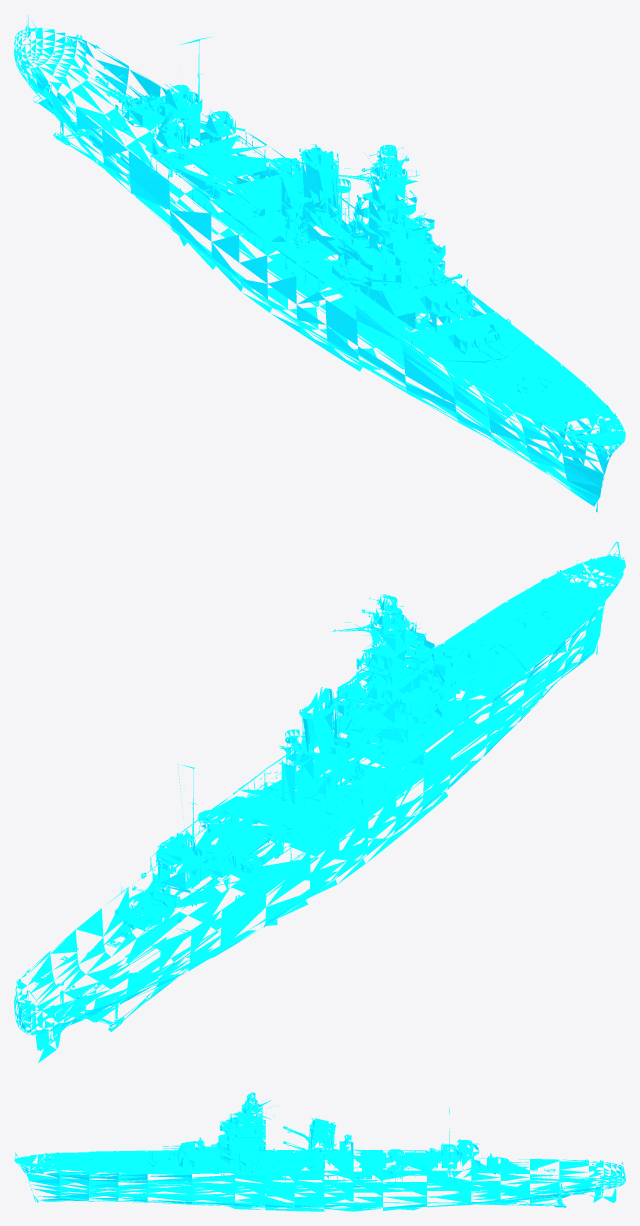
File: De_Grasse.glb
3 renders of one model, top to bottom at view 1: azimuth 30°, elevation 25°; view 2: azimuth 150°, elevation 25°; view 3: azimuth 270°, elevation 25°, orthographic. The views are drawn at different scales.
Bounding box in the file's own units: 1.26 × 2.47 × 12.51.
